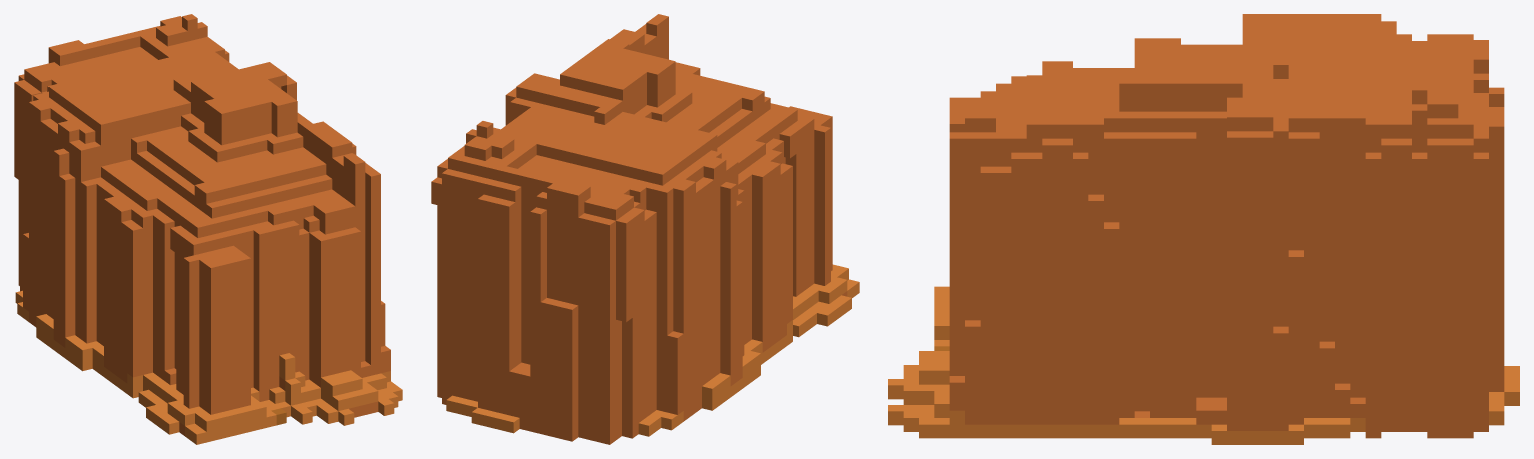
Rendered from Elm_7.obj.
The picture shows the model from 3 angles, left to right: view 1: azimuth 30°, elevation 25°; view 2: azimuth 150°, elevation 25°; view 3: azimuth 270°, elevation 25°; orthographic projection. The views are drawn at different scales.
Size of the model in its own units: 22 by 24 by 41.
1 material, 1 textured.
